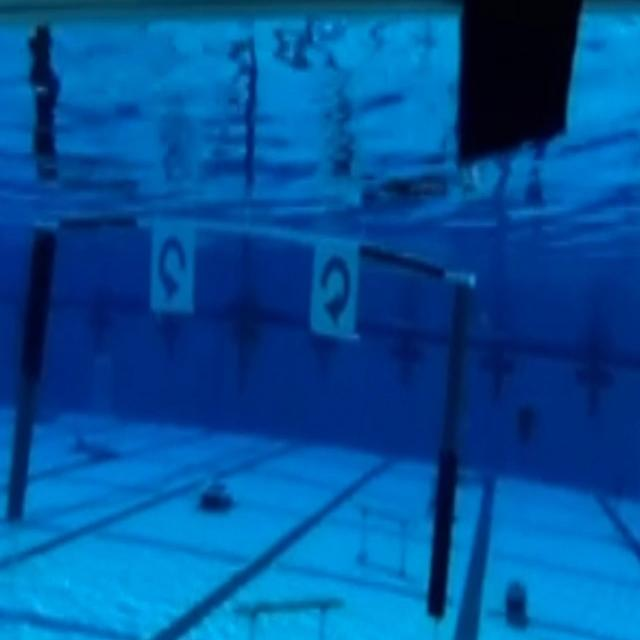Gate: (8, 203, 491, 615)
